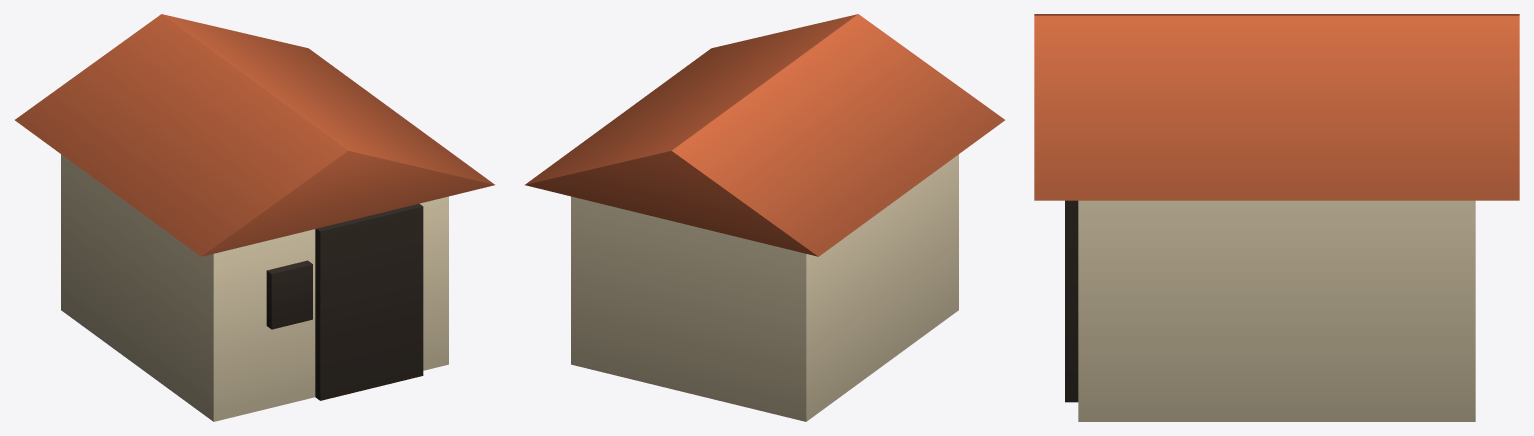
Rendered from house_ME_1a.glb.
The picture shows the model from 3 angles, left to right: view 1: azimuth 30°, elevation 25°; view 2: azimuth 150°, elevation 25°; view 3: azimuth 270°, elevation 25°; orthographic projection. The views are drawn at different scales.
Visible parts, largest first — view 1: Body; view 2: Body; view 3: Body.
Part boxes in pixels (bbox=[...]): Body: bbox=[15, 14, 494, 421]; Body: bbox=[525, 14, 1004, 421]; Body: bbox=[1034, 14, 1519, 421].
Bounding box in the file's own units: 1 × 0.828 × 1.1.
1 material, 1 textured.
